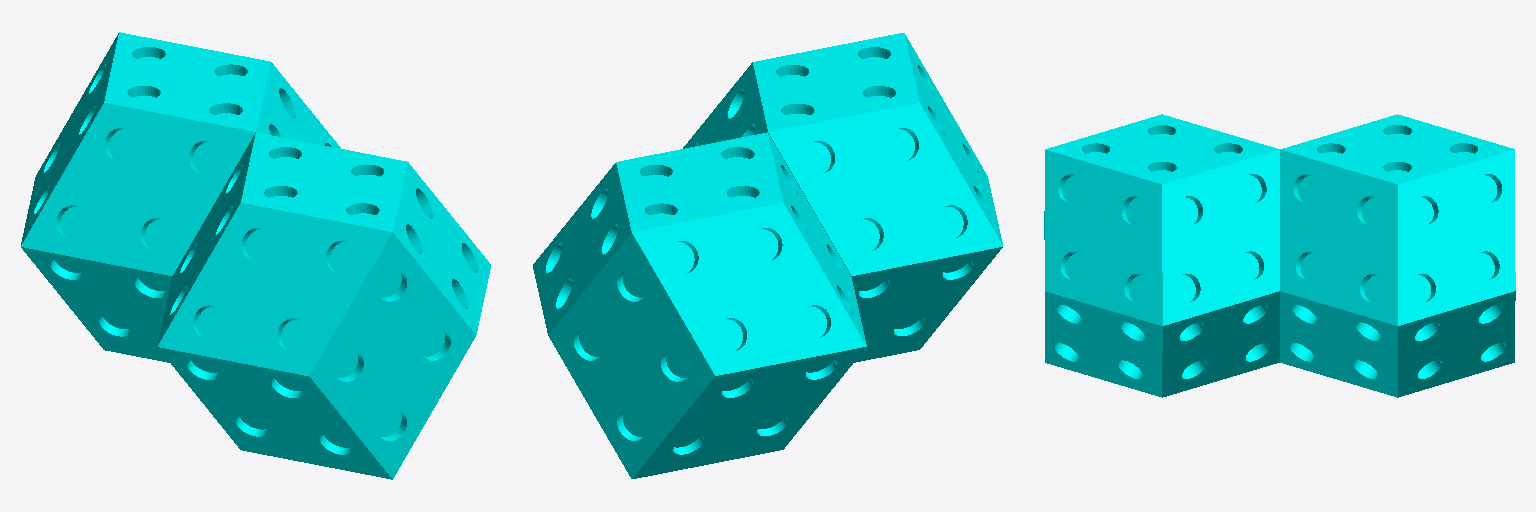
URDF robot description (robot):
<robot name = "robot">
    <link name="Central">
        <inertial>
            <origin xyz="0 0 0" rpy="0 0 0.62"/>
            <mass value="1" />
            <inertia ixx="100" ixy="0" ixz="0" iyy="100" iyz="0" izz="100" />
        </inertial>
        <visual>
            <origin xyz="0 0 0" rpy="0 0 0.62"/>
            <geometry>
             <mesh filename="RhomDoDeca_mm v9.stl" scale="0.1 0.1 0.1" />
            </geometry>
            <material name="Cyan">
                <color rgba="0 1.0 1.0 1.0"/>
            </material>
        </visual>
        <collision>
            <origin xyz="0 0 0" rpy="0 0 0.62"/>
            <geometry>
             <mesh filename="RhomDoDeca_mm v9.stl" scale="0.1 0.1 0.1" />
            </geometry>
        </collision>
    </link>
    <joint name="Central_FrontOne" type="fixed">
       <parent link="Central"/>
       <child  link="FrontOne"/>
       <origin rpy="0 0 0" xyz="0 4.086 0" />
       <axis xyz="0 1 0"/>
       <limit effort="0.0" lower="-3.14159" upper="3.14159" velocity="0.0"/>
    </joint>
    <link name="FrontOne">
        <inertial>
            <origin xyz="0 0 0" rpy="0 0 0.62"/>
            <mass value="1" />
            <inertia ixx="100" ixy="0" ixz="0" iyy="100" iyz="0" izz="100" />
        </inertial>
        <visual>
            <origin xyz="0 0 0" rpy="0 0 0.62"/>
            <geometry>
             <mesh filename="RhomDoDeca_mm v9.stl" scale="0.1 0.1 0.1" />
            </geometry>
            <material name="Cyan">
                <color rgba="0 1.0 1.0 1.0"/>
            </material>
        </visual>
        <collision>
            <origin xyz="0 0 0" rpy="0 0 0.62"/>
            <geometry>
             <mesh filename="RhomDoDeca_mm v9.stl" scale="0.1 0.1 0.1" />
            </geometry>
        </collision>
    </link>
</robot>

--- What the picture shows (computed from the rendered views, not written in the file) ---
3 views of the same robot in one strip: view 1: azimuth 30°, elevation 25°; view 2: azimuth 150°, elevation 25°; view 3: azimuth 270°, elevation 25° (orthographic).
Model robot with 2 links and 1 joints (1 fixed), rooted at Central, posed every joint at zero.
Links seen in each view (by area): view 1: Central, FrontOne; view 2: FrontOne, Central; view 3: Central, FrontOne.
Boxes of the visible links, x1,y1,x2,y2 form: Central: [157, 132, 490, 479]; FrontOne: [21, 32, 340, 362]; FrontOne: [533, 132, 866, 478]; Central: [683, 33, 1002, 362]; Central: [1044, 114, 1279, 397]; FrontOne: [1280, 114, 1515, 397].
Size in the robot's own frame: 5.77 by 8.17 by 4.08 metres.
Meshes: 1 distinct files referenced, 2 mesh visuals loaded (1 binary STL).